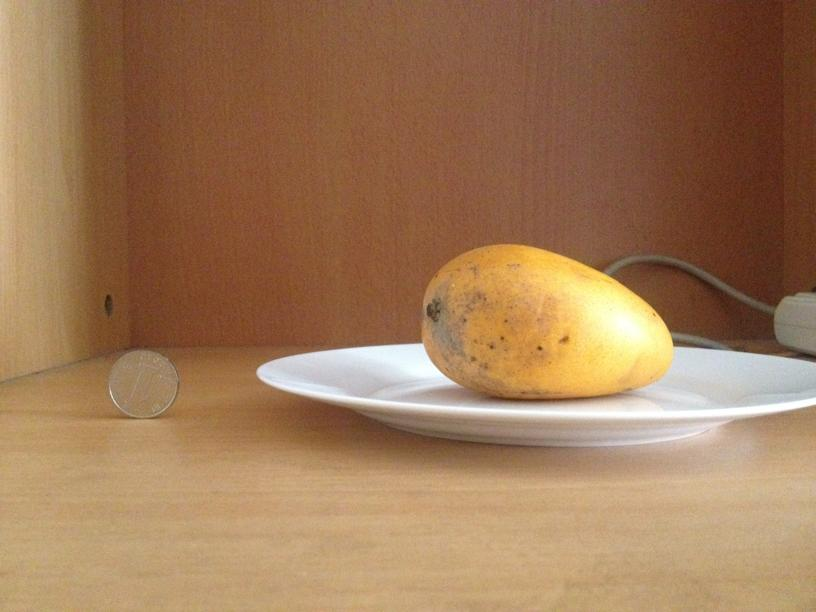coin: (109, 350, 179, 417)
mango: (424, 245, 675, 396)
